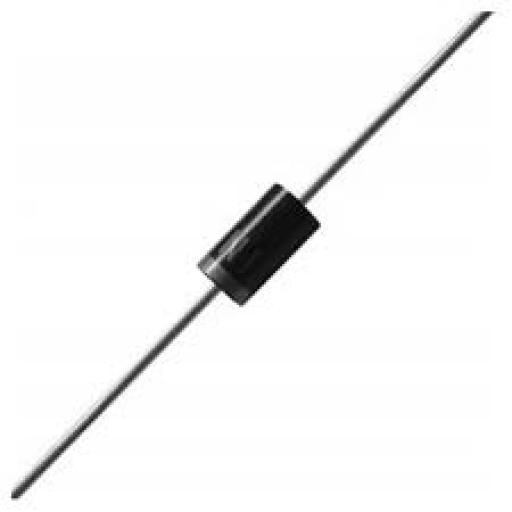DIODE: (7, 7, 494, 498)
